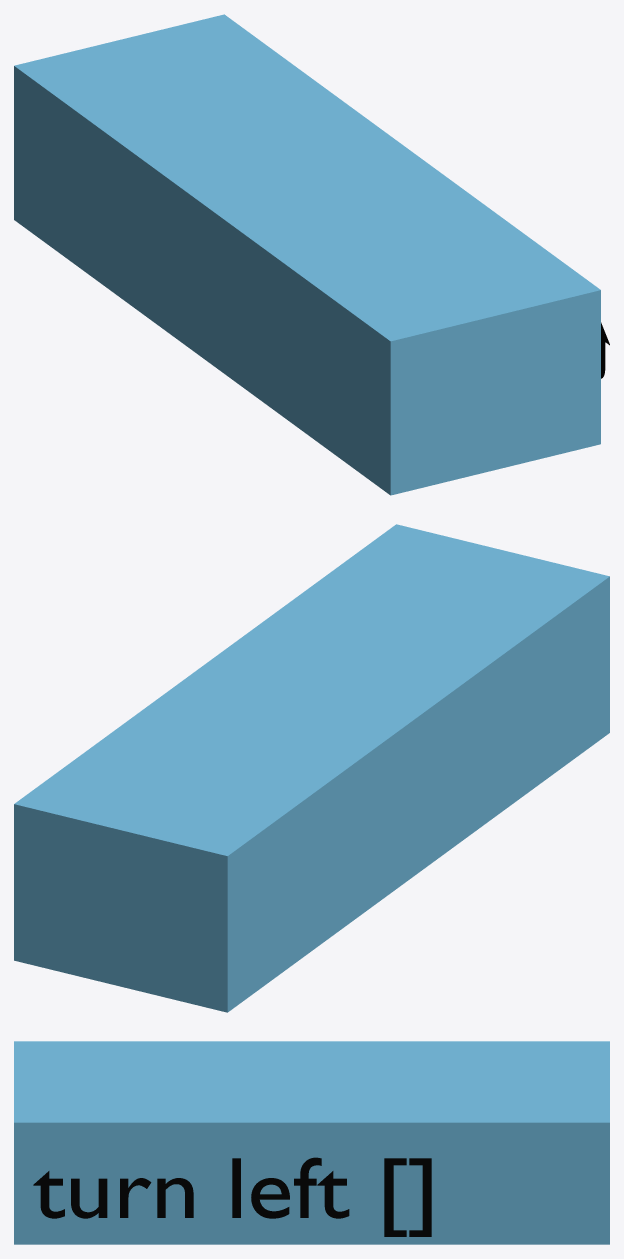
Rendered from Turn Left Block.fbx.
The picture shows the model from 3 angles, top to bottom: view 1: azimuth 30°, elevation 25°; view 2: azimuth 150°, elevation 25°; view 3: azimuth 270°, elevation 25°; orthographic projection. The views are drawn at different scales.
Visible parts, largest first — view 1: Cube.003; view 2: Cube.003; view 3: Cube.003, turn left.
Boxes of the visible parts, <box> form: Cube.003: <box>14,14,600,495</box>; Cube.003: <box>14,524,609,1012</box>; Cube.003: <box>14,1041,609,1244</box>; turn left: <box>33,1157,431,1236</box>.
Size of the model in its own units: 110 by 70 by 310.
